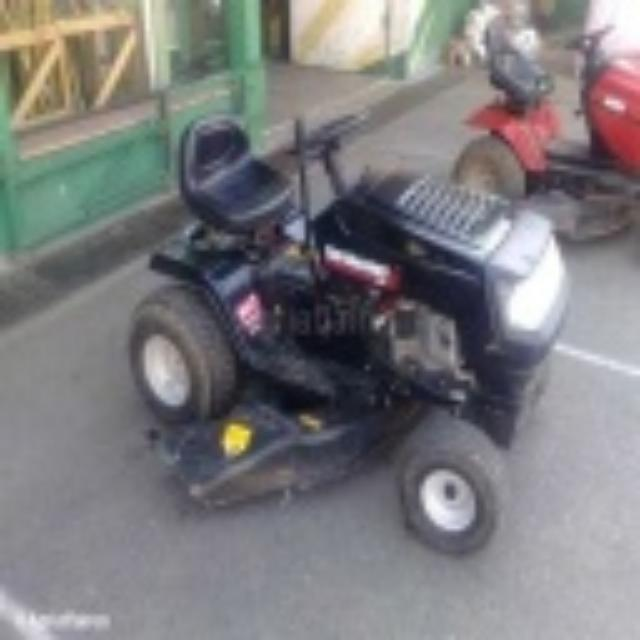Rotary-Mower: (125, 105, 570, 555)
